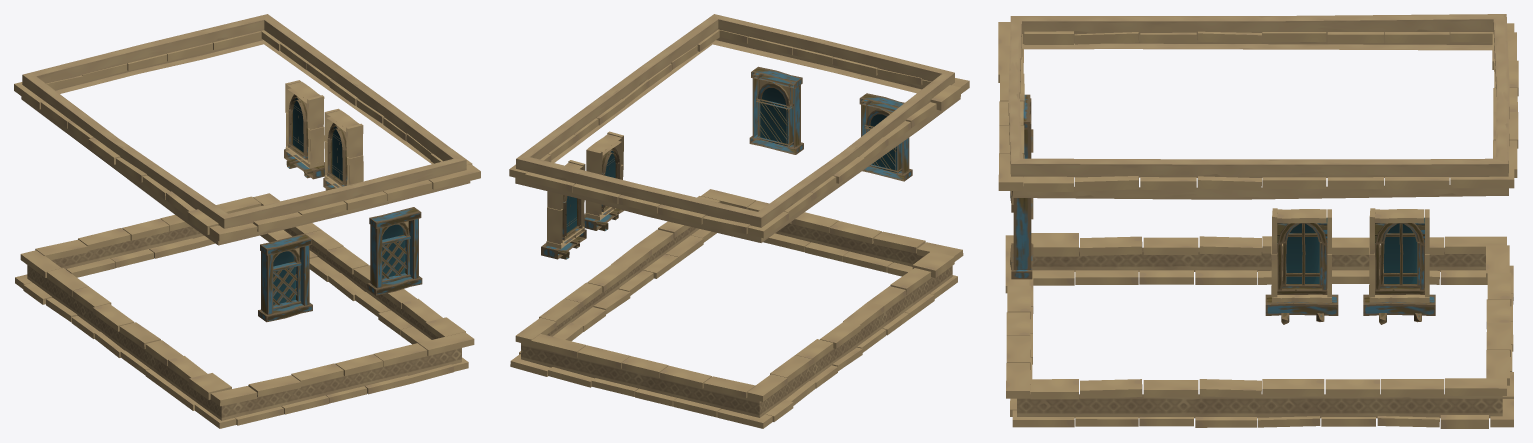
The model's file is A_Medium_BuildingBlock_E_kitPart.FBX.
The picture shows the model from 3 angles, left to right: view 1: azimuth 30°, elevation 25°; view 2: azimuth 150°, elevation 25°; view 3: azimuth 270°, elevation 25°; orthographic projection. The views are drawn at different scales.
Parts seen in each view (by area): view 1: A_Medium_BuildingBlock_E_kitPart; view 2: A_Medium_BuildingBlock_E_kitPart; view 3: A_Medium_BuildingBlock_E_kitPart.
Boxes of the visible parts, <box> form: A_Medium_BuildingBlock_E_kitPart: <box>14,14,480,428</box>; A_Medium_BuildingBlock_E_kitPart: <box>509,14,969,428</box>; A_Medium_BuildingBlock_E_kitPart: <box>998,14,1518,428</box>.
Size of the model in its own units: 555 by 418 by 750.
Materials: 1 (1 with a texture image).
